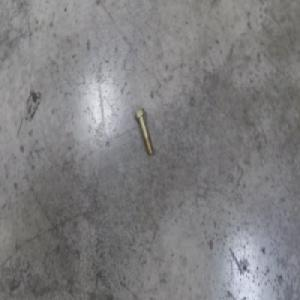Bolt: (132, 109, 151, 157)
